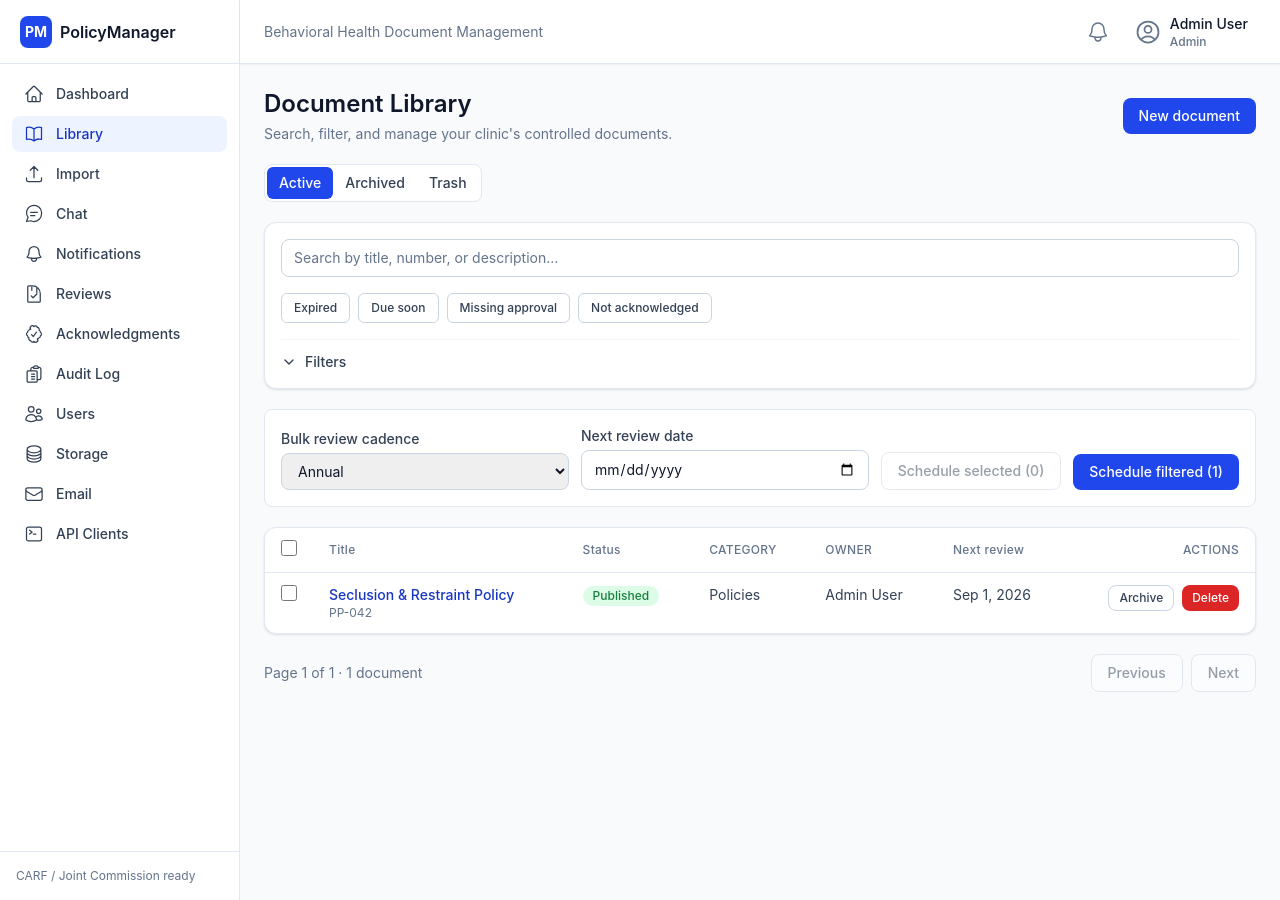
LibraryPage › surfaces an error toast when a row action fails (no silent failure)
The image size is (1280, 900).
Expected: the button "Seclusion & Restraint Policy" is shown, [329,585,514,605]
Click the button "Archive".
click(1141, 598)  # box [1108,585,1174,611]
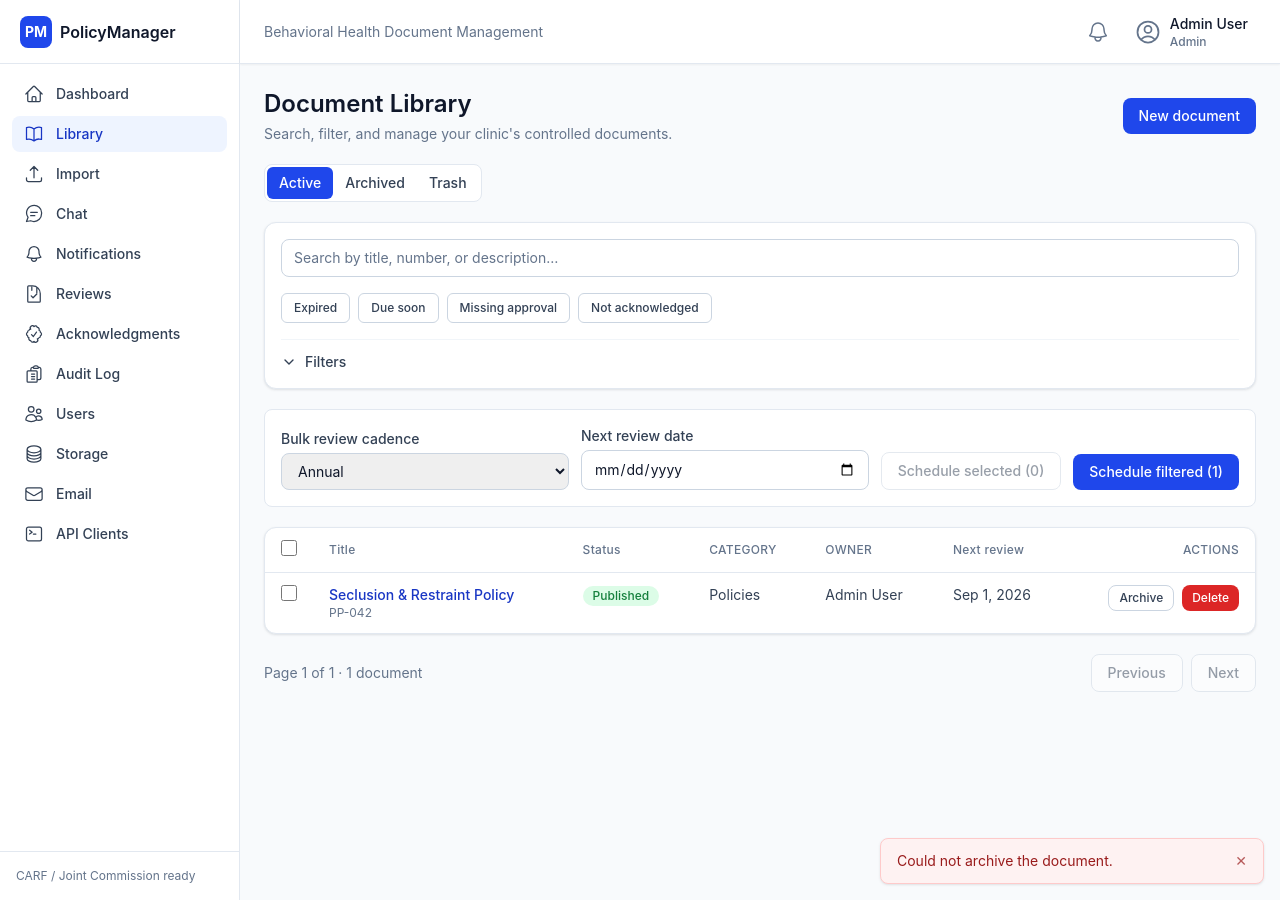
Expected: the message shows "Could not archive the document.", [897,852,1113,869]
